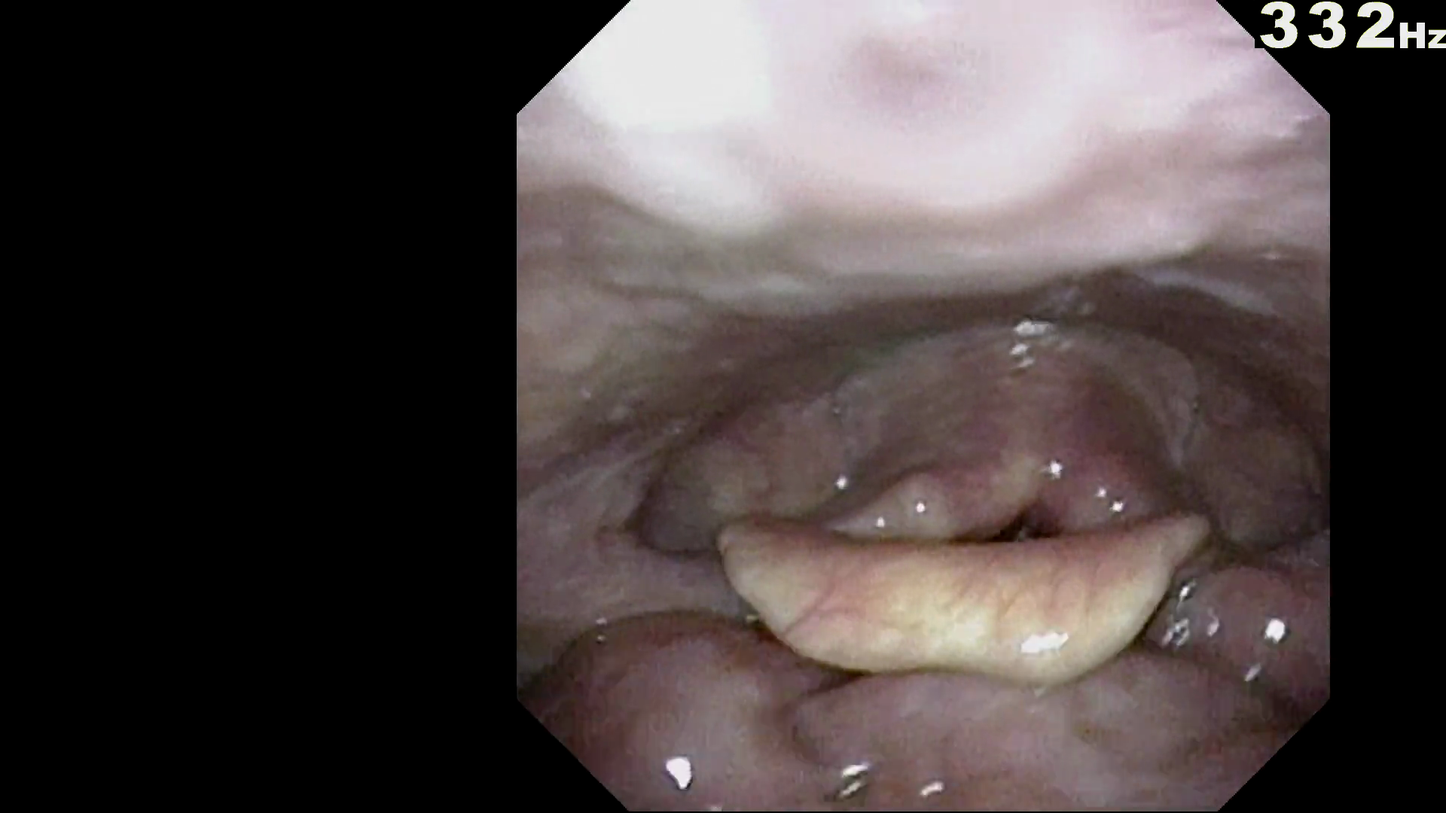epiglottis: (710, 521, 1252, 670)
trachea: (966, 477, 1084, 572)
